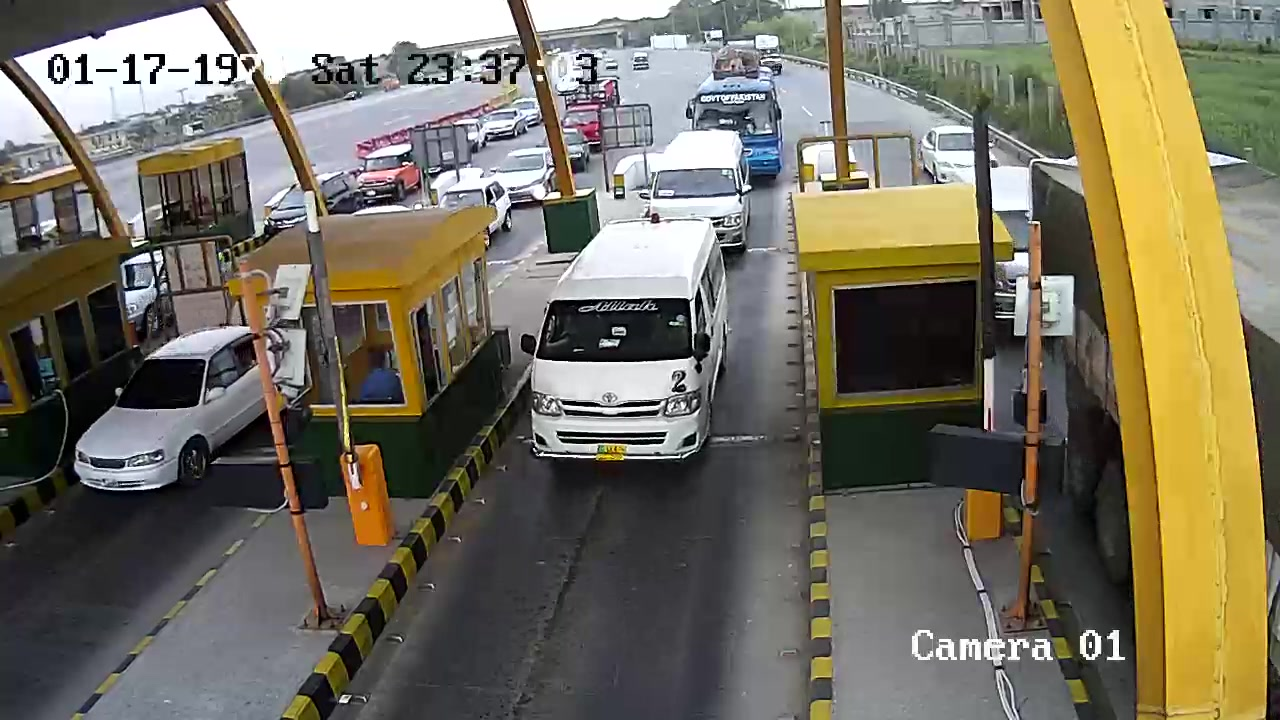F2: (525, 211, 737, 479)
